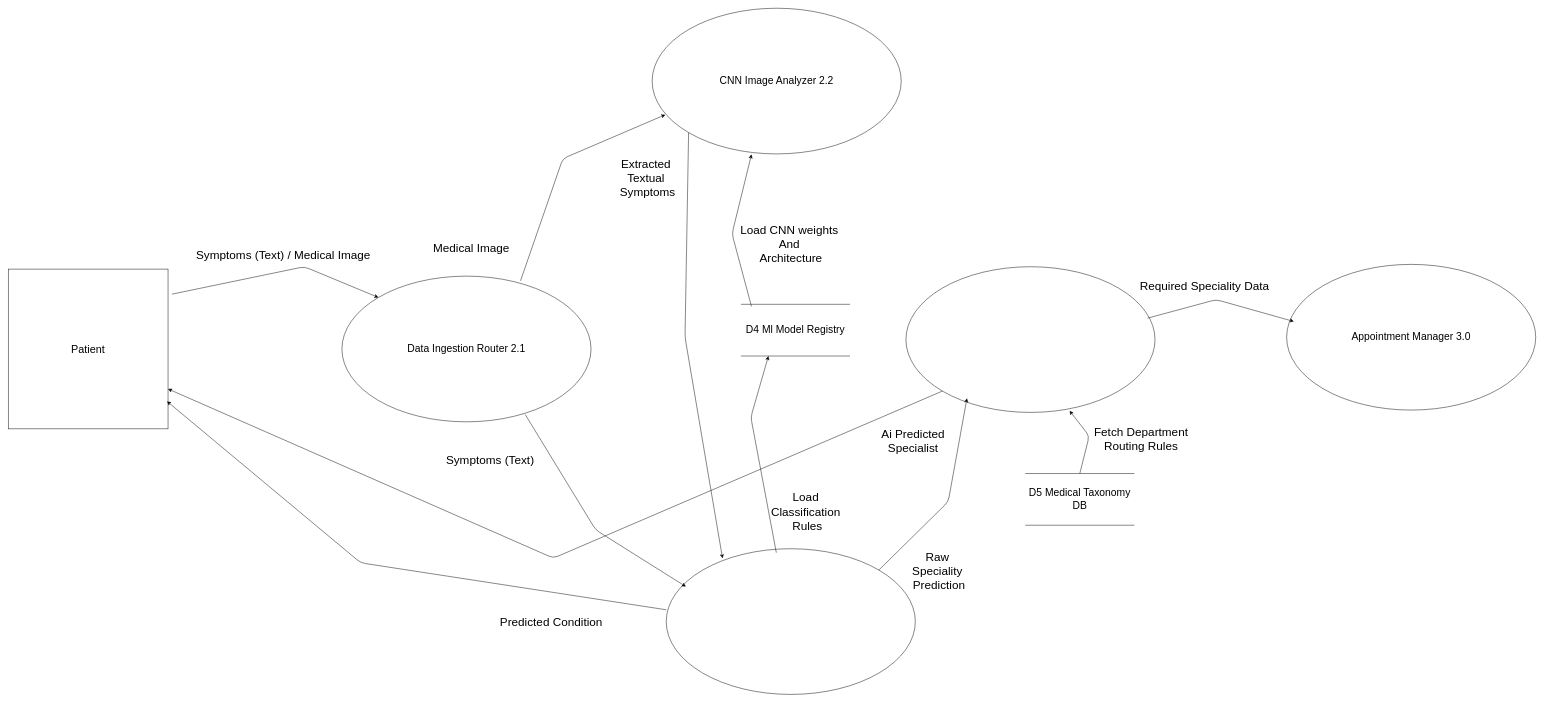
Some shapes in this 1544 by 703 pixel diagram are drawn without their labels. The shapes that lost their labels are listed below. From the top down, each one's box as (x1, y1, x2, y2) in pixels, then its label:
(905, 266, 1155, 412): Speciality Mapper 2.4
(666, 548, 915, 694): Decision Tree Classifier 2.3
